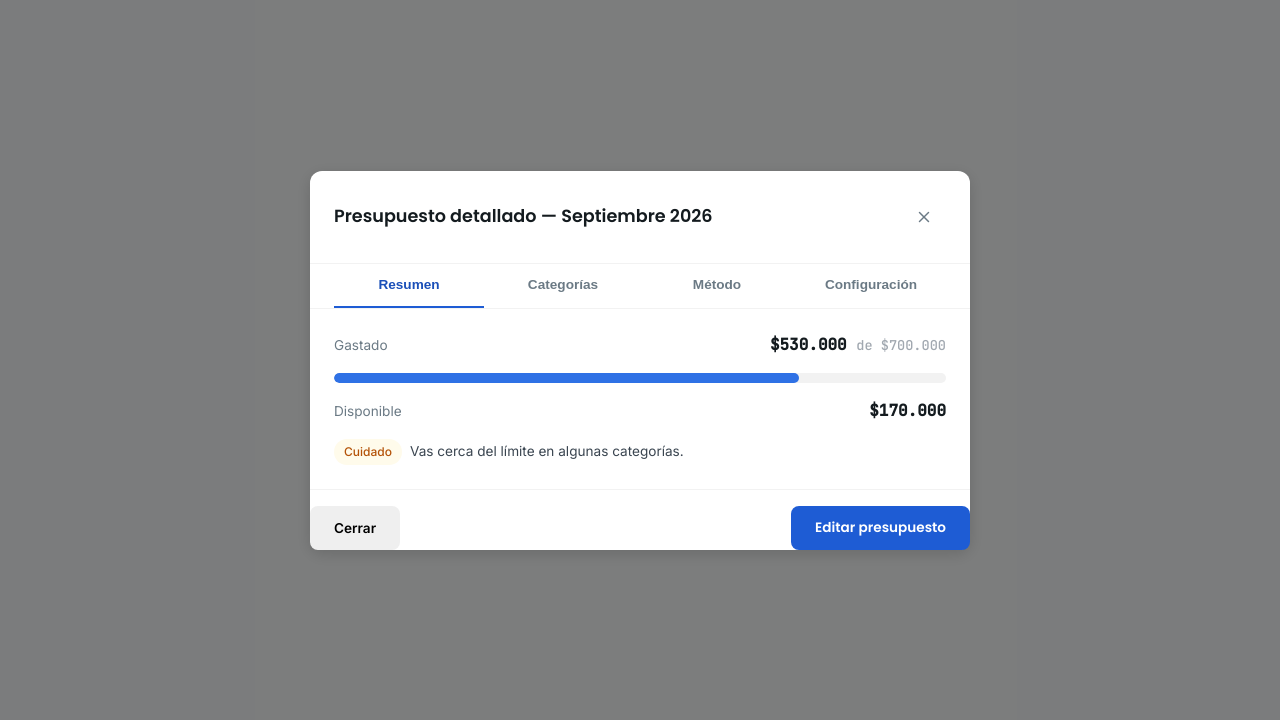
Scenario: BudgetDetailModal › VIEW mode › shows detail table with budget items in Categorías tab
This screenshot has width=1280, height=720.
Click the tab "Categorías".
click(563, 286)  # box top-left (488, 264), bottom-right (638, 308)
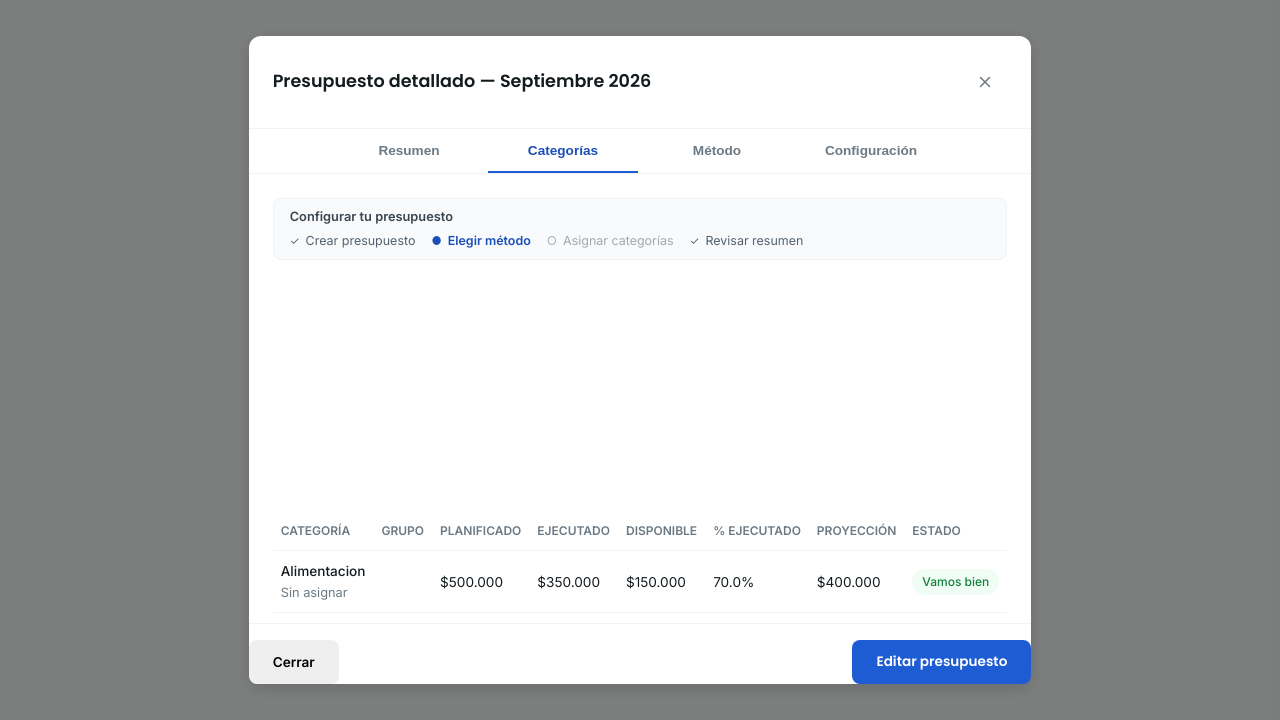
Expected: the text "Alimentacion" is shown, top-left (281, 561), bottom-right (366, 581)
